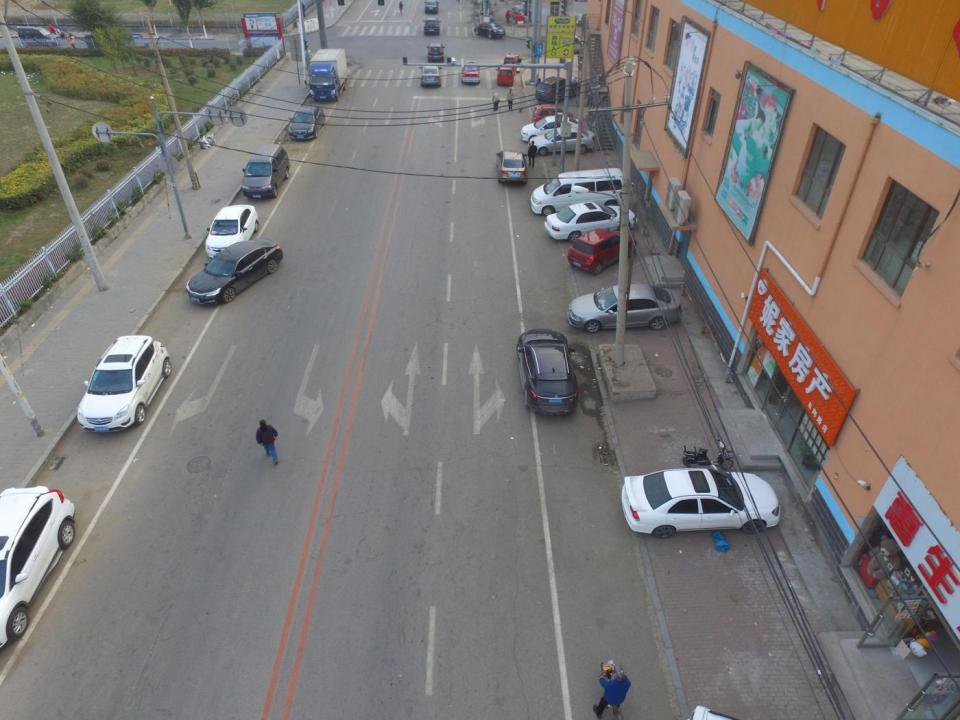car: (0, 486, 77, 650), (620, 464, 782, 539), (76, 336, 172, 432), (186, 239, 284, 306), (516, 329, 580, 416), (568, 284, 682, 332), (545, 202, 636, 243), (566, 227, 636, 275), (528, 126, 595, 156), (518, 115, 584, 143), (494, 150, 528, 185), (289, 106, 324, 140), (472, 22, 507, 38), (418, 64, 442, 86), (460, 60, 481, 85), (422, 17, 442, 35), (426, 43, 444, 62), (423, 0, 439, 14)
truck: (304, 48, 348, 103)
van: (530, 167, 624, 216), (241, 144, 291, 200)
